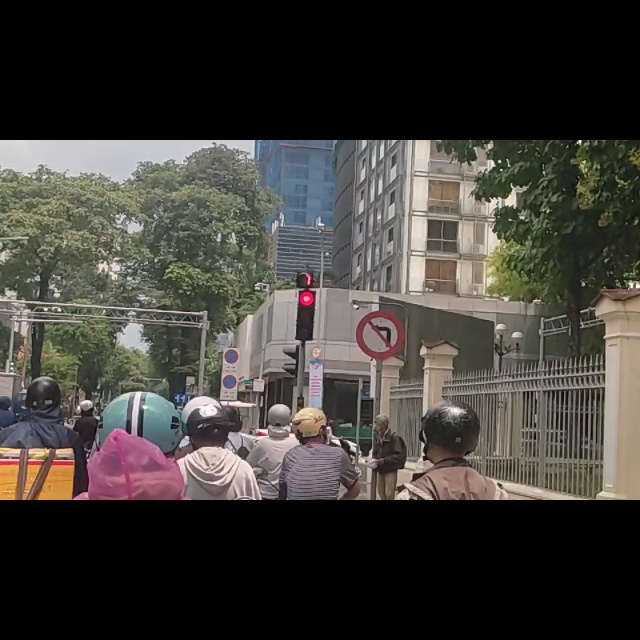bien_chi_dan: (355, 297, 405, 391), (223, 371, 239, 399), (222, 415, 238, 443)
